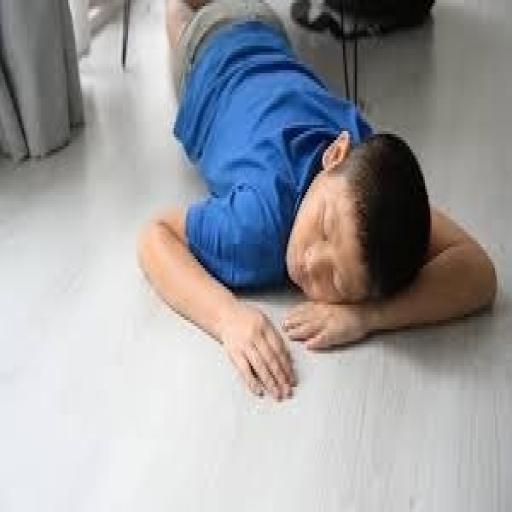sleeping: (135, 0, 500, 402)
